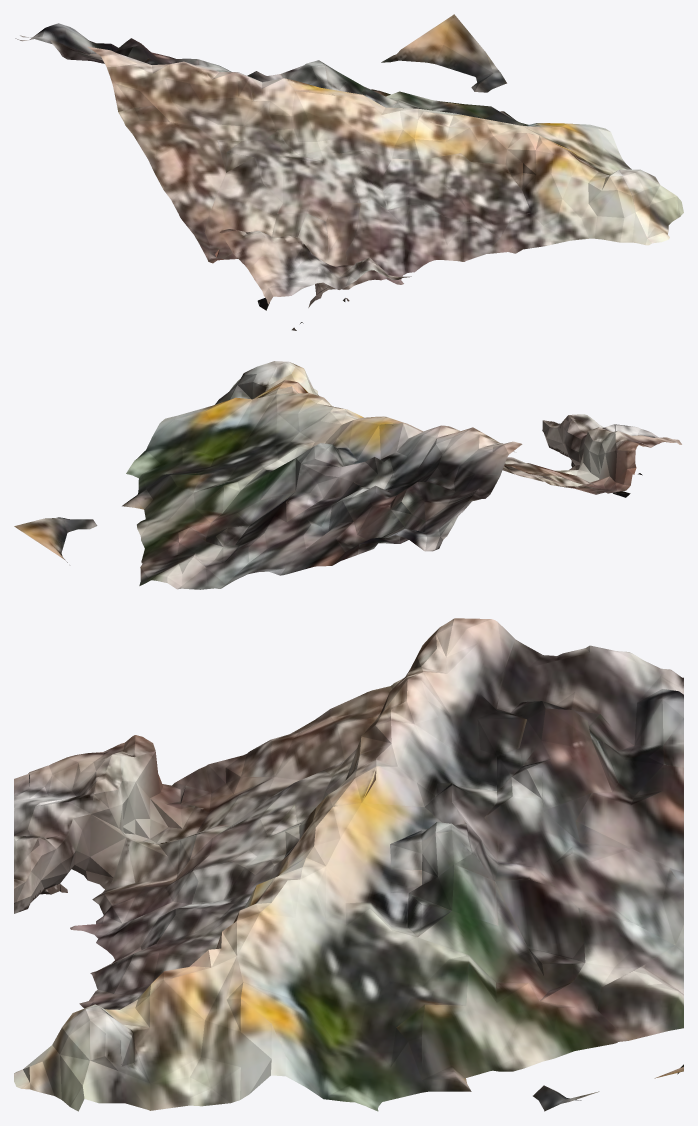
3 views of the same model, one above another, from view 1: azimuth 30°, elevation 25°; view 2: azimuth 150°, elevation 25°; view 3: azimuth 270°, elevation 25° (orthographic). The views are drawn at different scales.
Size of the model in its own units: 1.67 by 0.58 by 1.67.
3 materials, 3 textured.
